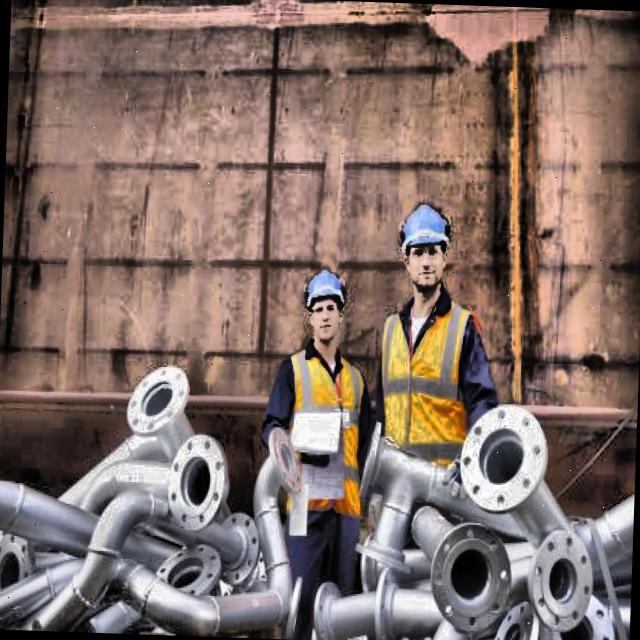helmet: (393, 196, 456, 296), (299, 264, 350, 349)
